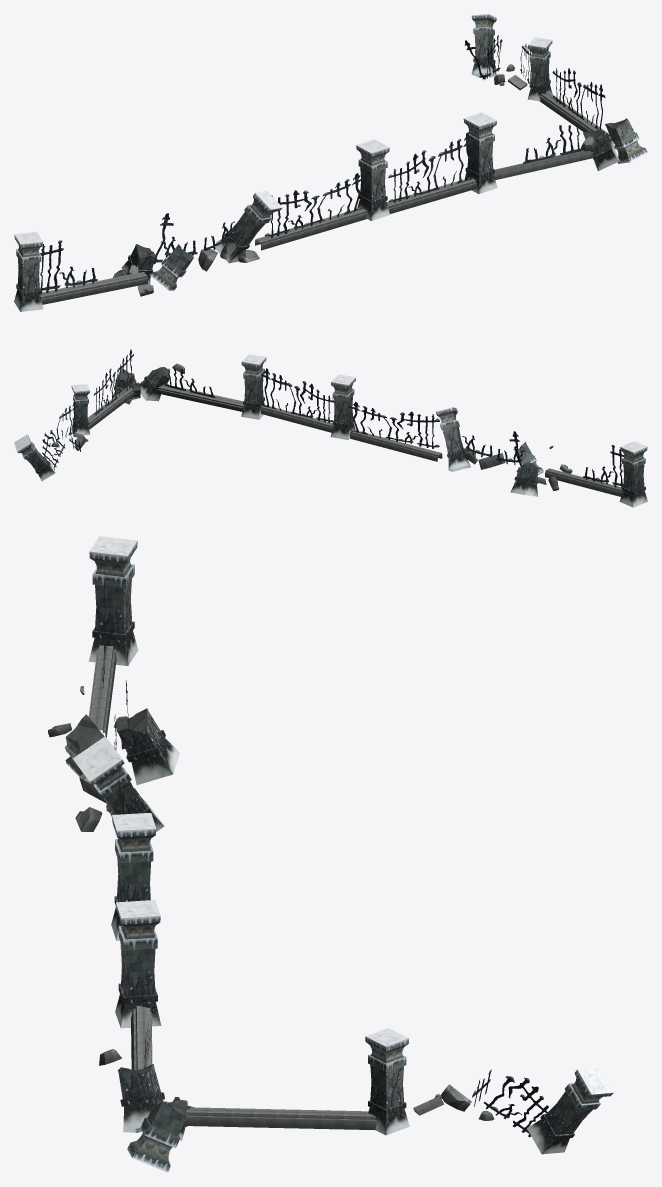
The model's file is 3-1_weiqiang2.FBX.
The picture shows the model from 3 angles, top to bottom: view 1: azimuth 30°, elevation 25°; view 2: azimuth 150°, elevation 25°; view 3: azimuth 270°, elevation 25°; orthographic projection. The views are drawn at different scales.
Visible parts, largest first — view 1: 3-1_weiqiang2; view 2: 3-1_weiqiang2; view 3: 3-1_weiqiang2.
Boxes of the visible parts, box(x1,y1,x2,y2) form: 3-1_weiqiang2: box(14, 14, 647, 311); 3-1_weiqiang2: box(14, 349, 647, 507); 3-1_weiqiang2: box(48, 536, 613, 1172).
Size of the model in its own units: 2887 by 378 by 1364.
